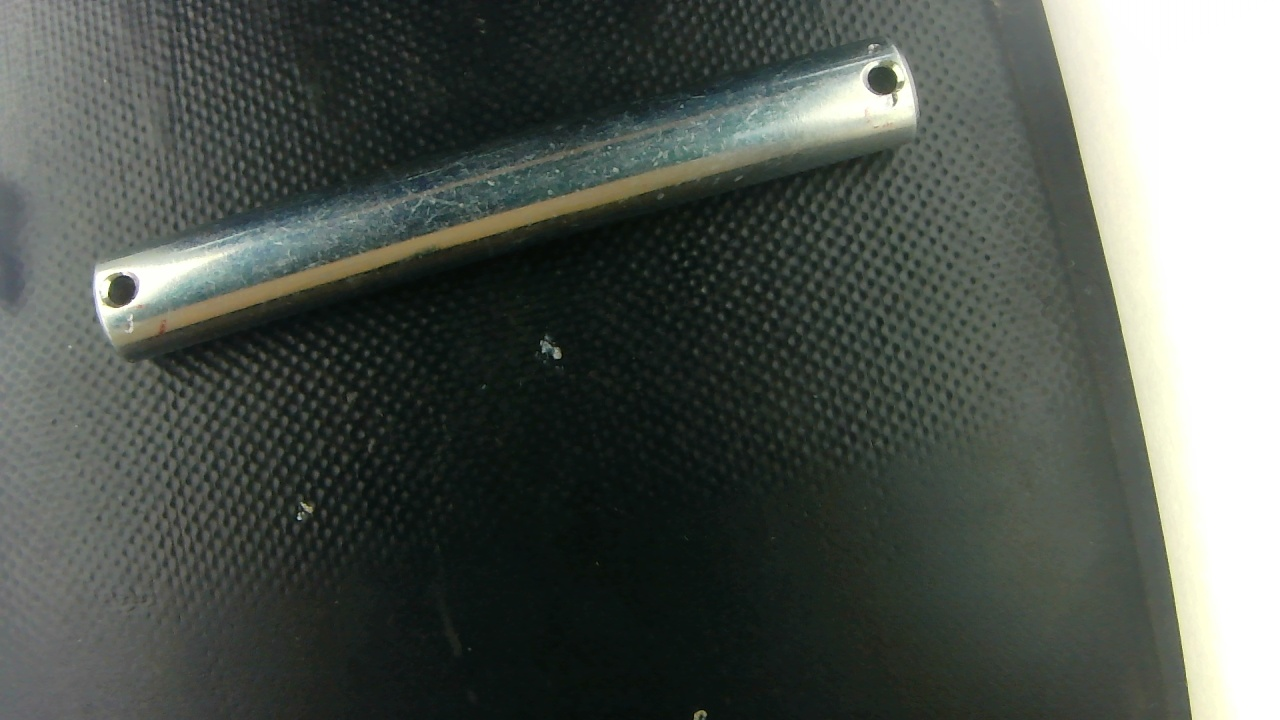drill touch_pin: (886, 86, 916, 130)
